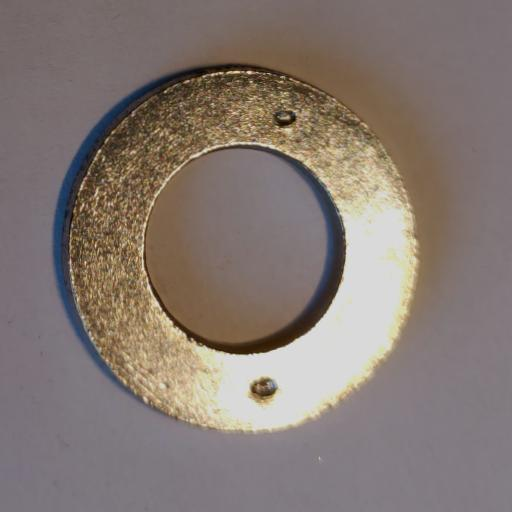circular_cavity: (250, 376, 277, 406), (273, 108, 297, 126)
